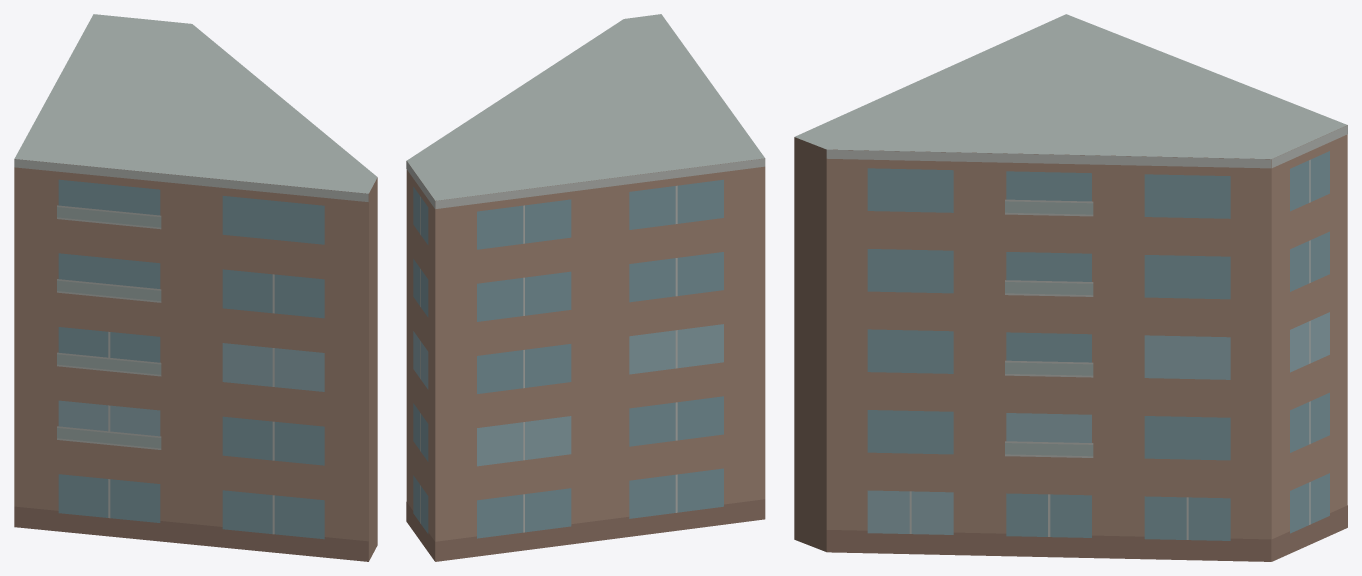
The model's file is survey-upis-32636016.glb.
The picture shows the model from 3 angles, left to right: view 1: azimuth 30°, elevation 25°; view 2: azimuth 150°, elevation 25°; view 3: azimuth 270°, elevation 25°; orthographic projection. The views are drawn at different scales.
Parts seen in each view (by area): view 1: survey-upis-32636016.tmp; view 2: survey-upis-32636016.tmp; view 3: survey-upis-32636016.tmp.
Part boxes in pixels (left/top/right/bottom): survey-upis-32636016.tmp: left=14, top=14, right=377, bottom=561; survey-upis-32636016.tmp: left=406, top=14, right=765, bottom=561; survey-upis-32636016.tmp: left=794, top=14, right=1347, bottom=561.
Size of the model in its own units: 8.2 by 10.6 by 13.21.
